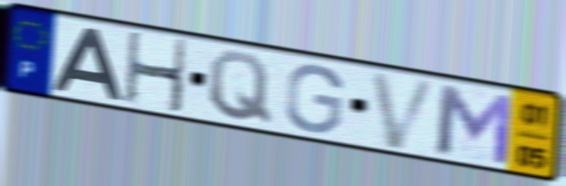A: (48, 25, 125, 103)
G: (282, 61, 347, 135)
H: (122, 29, 190, 117)
M: (434, 80, 516, 169)
Q: (207, 49, 275, 127)
V: (367, 69, 442, 152)
